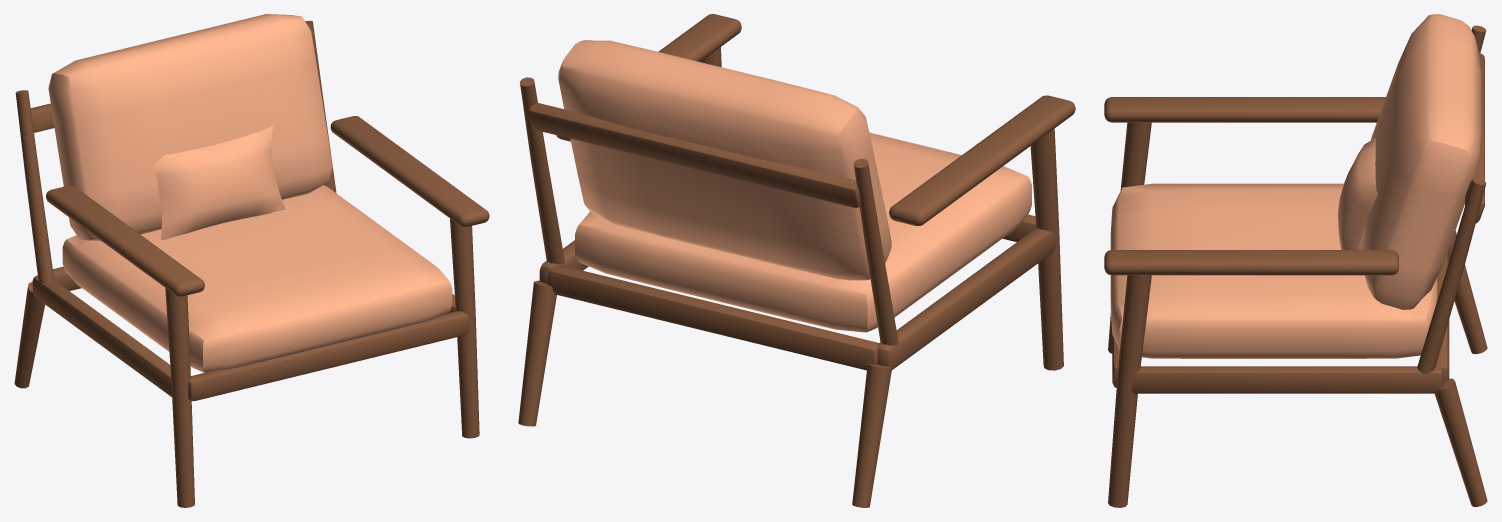
File: armchair.glb
3 renders of one model, left to right at view 1: azimuth 30°, elevation 25°; view 2: azimuth 150°, elevation 25°; view 3: azimuth 270°, elevation 25°, orthographic. The views are drawn at different scales.
Visible parts, largest first — view 1: fabric_armchair, walnut; view 2: fabric_armchair, walnut; view 3: fabric_armchair, walnut.
Boxes of the visible parts, x1,y1,x2,y2 form: fabric_armchair: [48, 14, 452, 372]; walnut: [14, 20, 489, 507]; fabric_armchair: [558, 40, 1031, 332]; walnut: [518, 14, 1075, 507]; fabric_armchair: [1110, 14, 1481, 358]; walnut: [1104, 25, 1487, 507].
Bounding box in the file's own units: 0.895 × 0.8841 × 0.8583.
